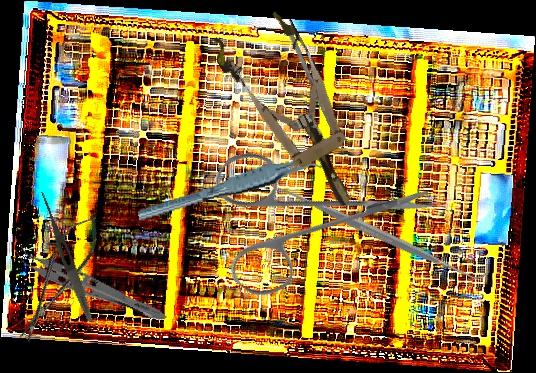Dressing Forceps: (35, 190, 97, 324)
Iris Scissors: (171, 84, 438, 349)
Micro Scissor: (5, 208, 110, 348)
Pusher: (286, 28, 350, 163)
Spatula Surgical: (268, 173, 490, 294)
Speculum: (206, 1, 383, 226)
Tissue Forceps: (8, 241, 174, 326), (133, 153, 333, 222)
